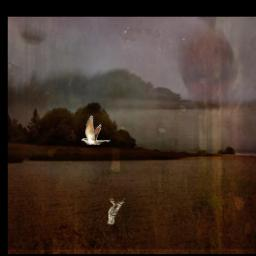Cuckoo: (81, 115, 111, 145)
Sparrow: (108, 198, 126, 225)
